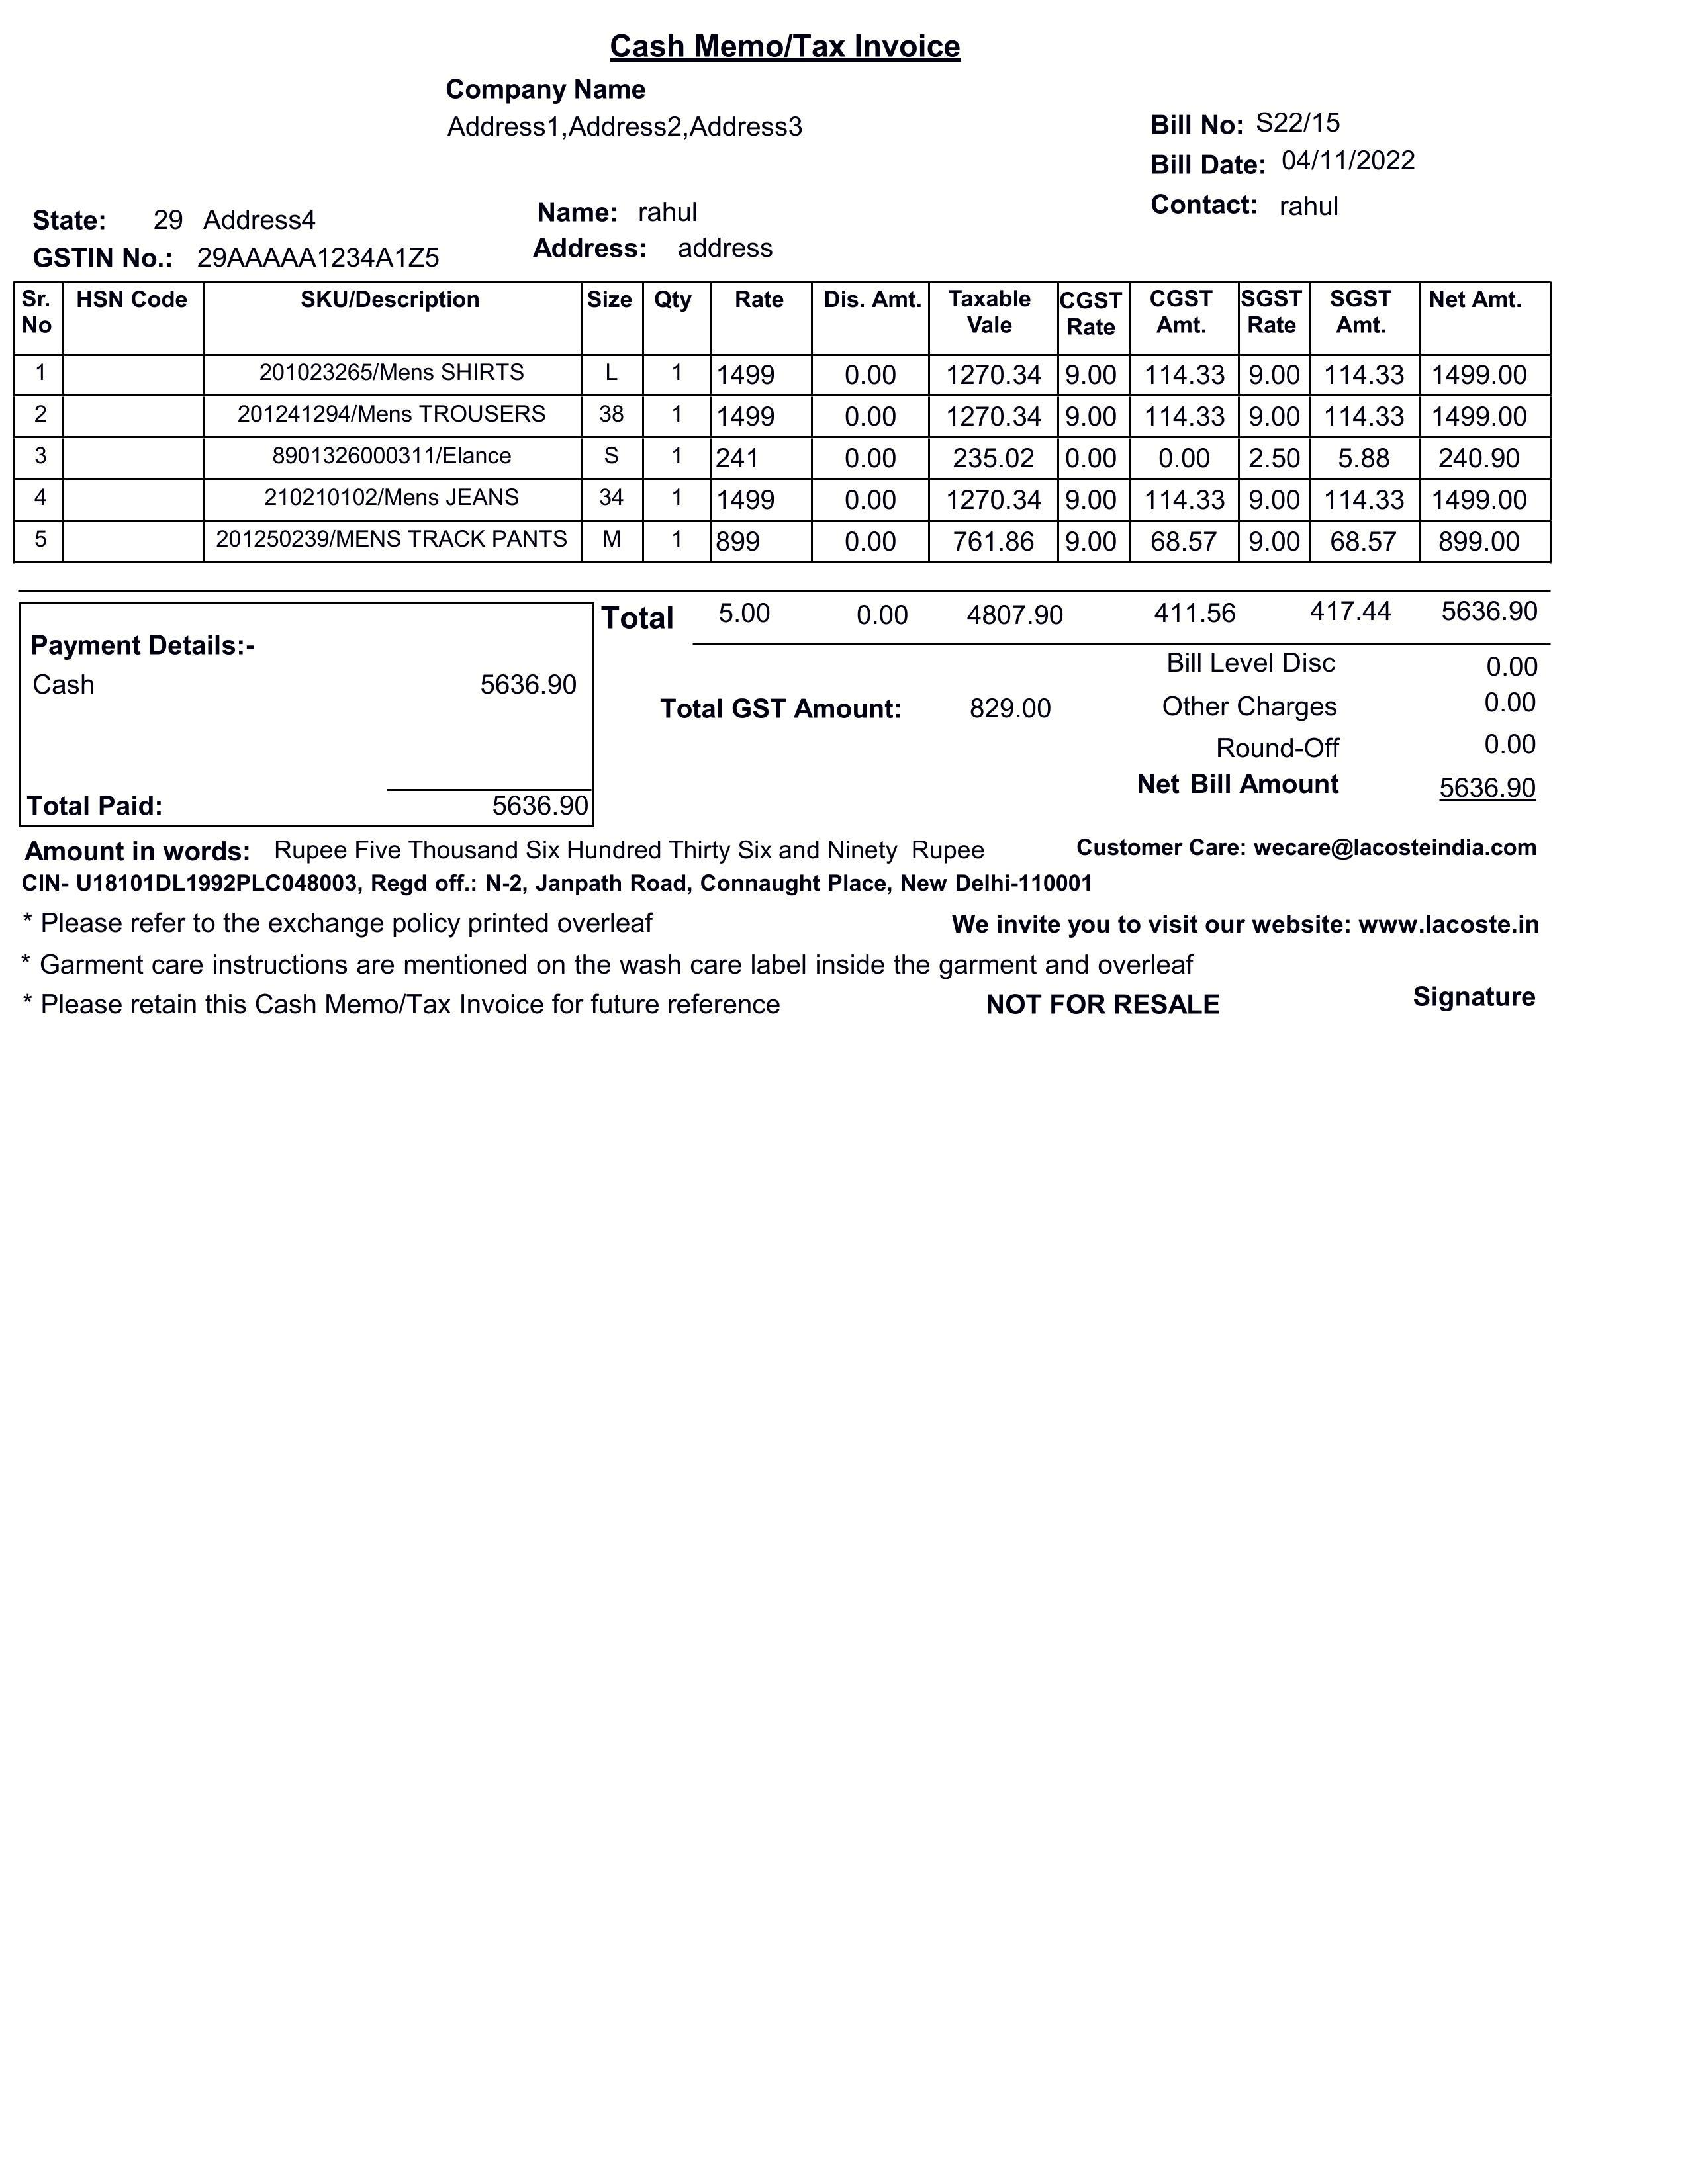InvoiceDate: (1275, 145, 1422, 175)
InvoiceNumber: (1252, 105, 1346, 138)
TotalAmount: (1433, 771, 1539, 805)
